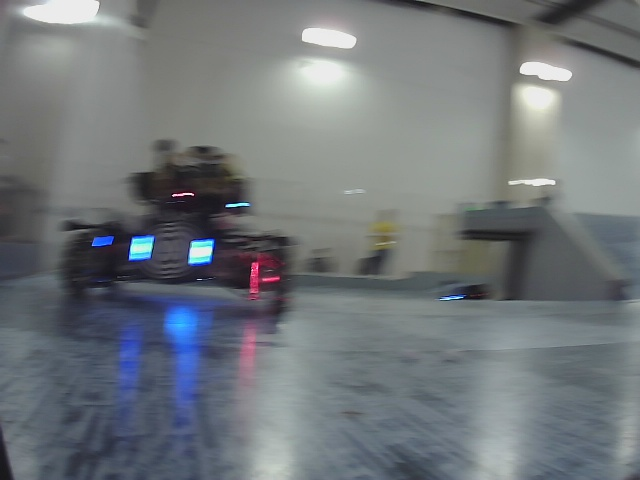lamp: (129, 237, 152, 259), (189, 241, 213, 262)
pair: (129, 236, 212, 264)
